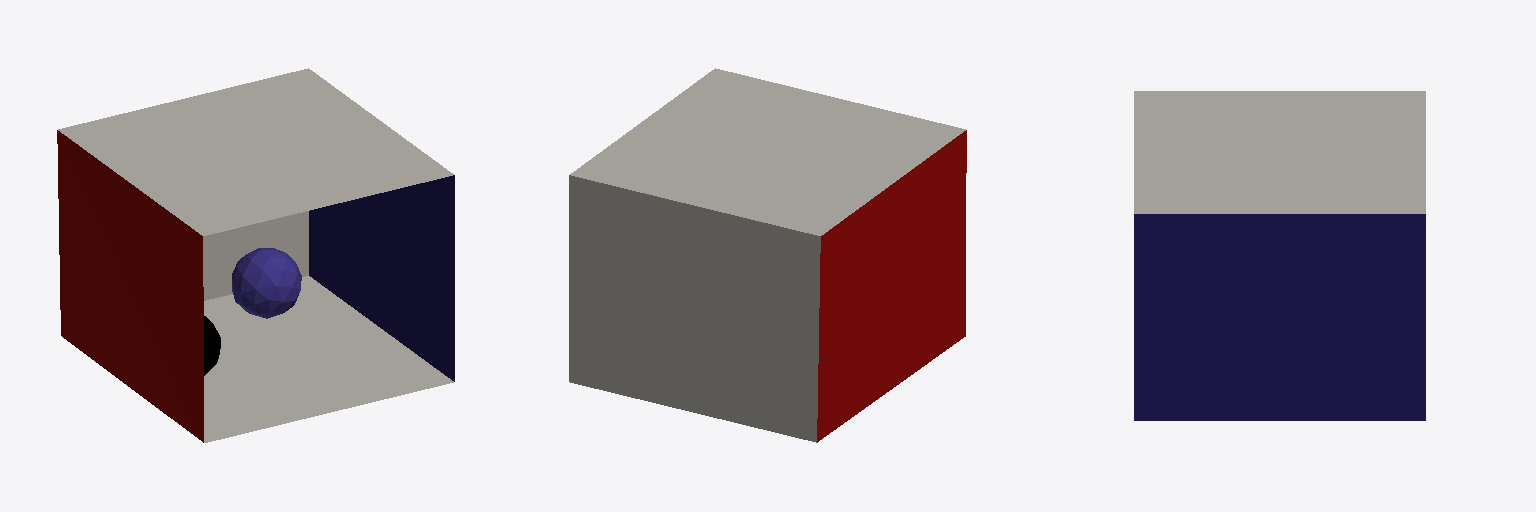
File: CornellBox-Sphere-1195.obj
3 views of the same model, side by side, from view 1: azimuth 30°, elevation 25°; view 2: azimuth 150°, elevation 25°; view 3: azimuth 270°, elevation 25° (orthographic).
Parts seen in each view (by area): view 1: ceiling, leftWall, floor, rightWall, backWall, leftSphere, rightSphere; view 2: backWall, ceiling, leftWall; view 3: rightWall, ceiling.
Boxes of the visible parts, x1=… form: ceiling: x1=58, y1=68, x2=453, y2=235; leftWall: x1=57, y1=130, x2=203, y2=442; floor: x1=204, y1=276, x2=453, y2=442; rightWall: x1=309, y1=175, x2=454, y2=381; backWall: x1=203, y1=211, x2=308, y2=300; leftSphere: x1=232, y1=248, x2=301, y2=318; rightSphere: x1=204, y1=316, x2=220, y2=375; backWall: x1=569, y1=175, x2=820, y2=442; ceiling: x1=570, y1=68, x2=965, y2=235; leftWall: x1=817, y1=130, x2=966, y2=442; rightWall: x1=1134, y1=214, x2=1425, y2=420; ceiling: x1=1134, y1=91, x2=1425, y2=213.
Size of the model in its own units: 2.02 by 1.59 by 2.03.